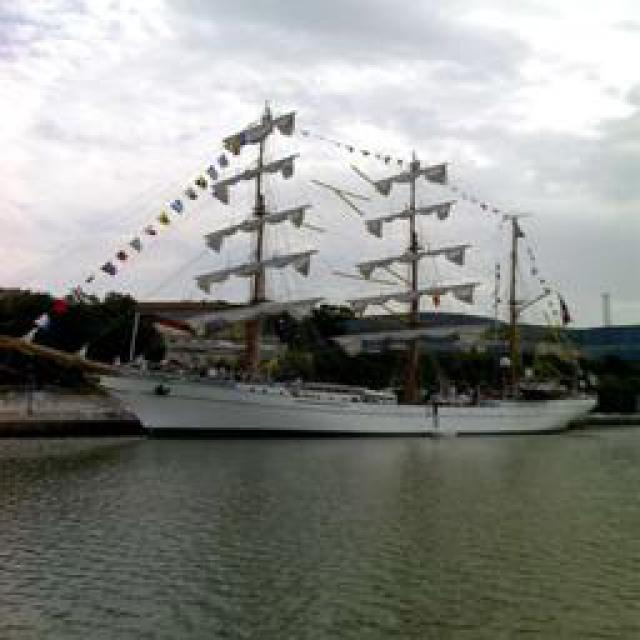Ship: (119, 365, 602, 438)
